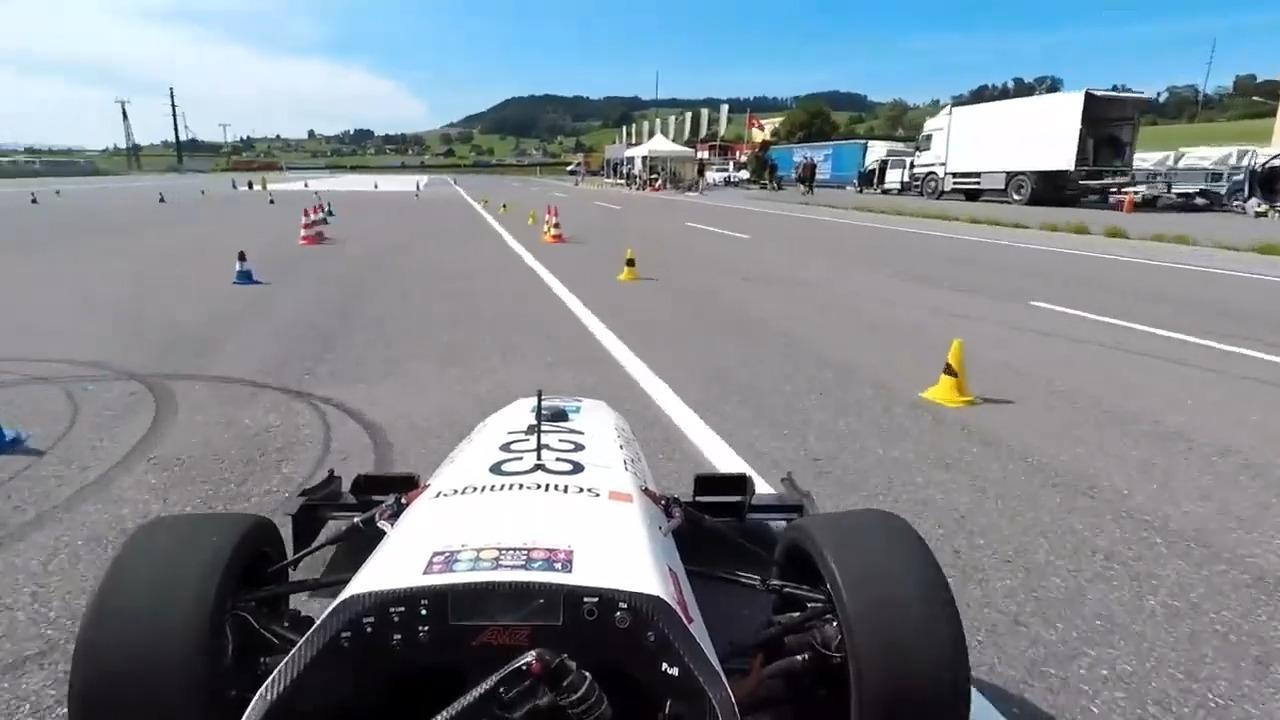blue_cone: (224, 244, 264, 280)
orange_cone: (295, 204, 330, 250), (541, 197, 564, 246)
yellow_cone: (906, 336, 976, 408), (613, 244, 648, 282)
